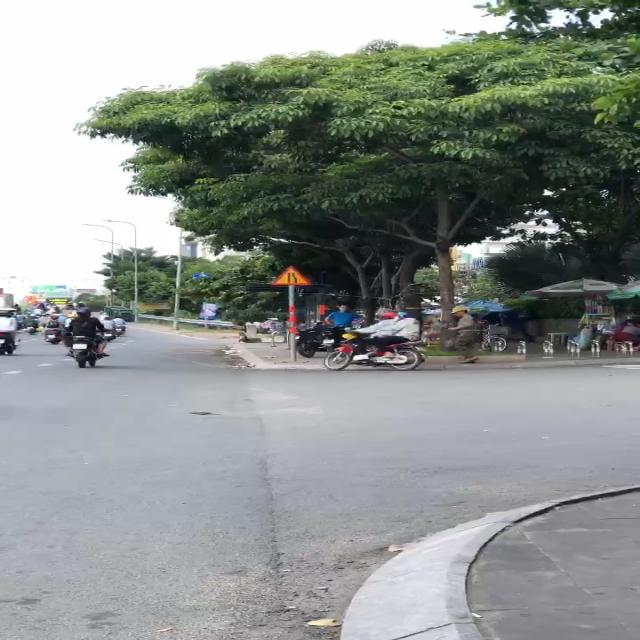Bien bao duong bi thu hep: (266, 262, 312, 288)
